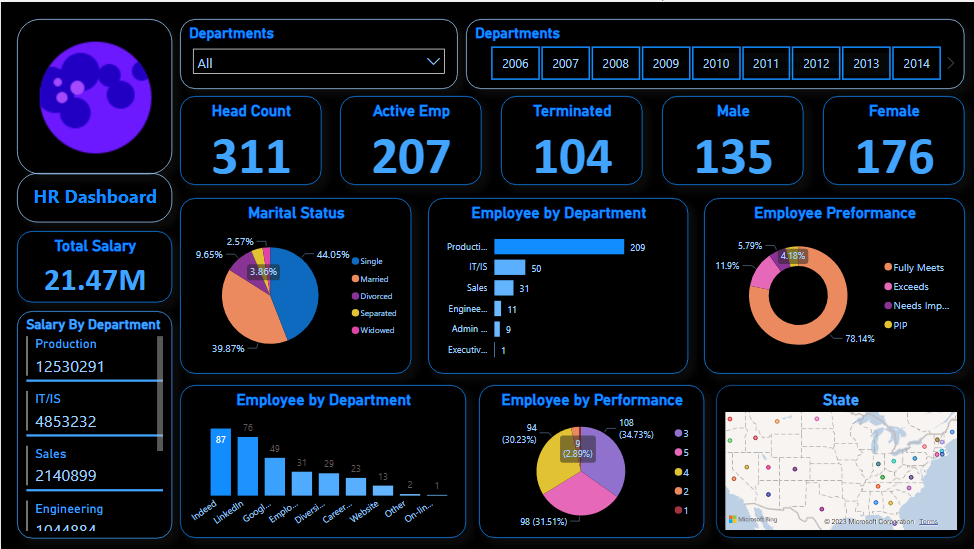

Layout of this report page (visuals, bound fields, positions):
{"tool":"powerbi","page":{"name":"Page 1","canvas":[1280,720],"ordinal":0},"visuals":[{"type":"image","box":[21,22.4,203.7,203.7],"z":1000},{"type":"textbox","box":[21.1,225.3,204.2,64.8],"z":2000},{"type":"slicer","title":"Departments","fields":{"Values":["HRData.Department"]},"box":[235.4,22,364.7,92.2],"z":3000},{"type":"slicer","title":"Departments","fields":{"Values":["HRData.HiringYear"]},"box":[611.1,22,655.1,92.2],"z":4000},{"type":"card","title":"Female","fields":{"Values":["HRData.Female_count"]},"box":[1080.4,123.9,185.8,117],"z":5000},{"type":"card","title":"Head Count","fields":{"Values":["Count(HRData.EmployeeID)"]},"box":[235.4,123.9,185.8,117],"z":6000},{"type":"card","title":"Active Emp","fields":{"Values":["HRData.Active_Emp"]},"box":[445.9,123.9,185.8,117],"z":7000},{"type":"card","title":"Terminated","fields":{"Values":["HRData.Terminated_Emp"]},"box":[656.5,123.9,185.8,117],"z":8000},{"type":"card","title":"Male","fields":{"Values":["HRData.Male_count"]},"box":[868.5,123.9,185.8,117],"z":9000},{"type":"pieChart","title":"Marital Status","fields":{"Category":["HRData.MaritalStatus"],"Y":["CountNonNull(HRData.MaritalStatus)"]},"box":[235.4,257.4,304.2,231.2],"z":10000},{"type":"barChart","title":"Employee by Department","fields":{"Category":["HRData.Department"],"Y":["CountNonNull(HRData.EmployeeID)"]},"box":[560.4,257.7,342.2,230.9],"z":11000},{"type":"donutChart","title":"Employee Preformance","fields":{"Category":["HRData.PerformanceScore"],"Y":["CountNonNull(HRData.Department)"]},"box":[923.5,257.4,342.7,231.2],"z":12000},{"type":"columnChart","title":"Employee by Department","fields":{"Category":["HRData.RecruitmentSource"],"Y":["CountNonNull(HRData.EmployeeID)"]},"box":[235.2,502.7,376,201.4],"z":13000},{"type":"pieChart","title":"Employee by Performance","fields":{"Category":["HRData.EmployeeSatisfaction"],"Y":["CountNonNull(HRData.EmployeeID)"]},"box":[628,502.7,295.7,201.4],"z":14000},{"type":"map","title":"State","fields":{"Series":["HRData.State"],"Category":["HRData.State"]},"box":[939.2,502.7,326.7,201.4],"z":15000},{"type":"card","title":"Total Salary","fields":{"Values":["Sum(HRData.Salary)"]},"box":[21.1,301.3,204.2,94.3],"z":16000},{"type":"multiRowCard","title":"Salary By Department","fields":{"Values":["Sum(HRData.Salary)","HRData.Department"]},"box":[21.1,405.5,204.2,298.5],"z":16001}]}

Visuals, with their boxes in screenshot pixels (x1, y1, x2, y2), scaled from the page's 1280x720 canvas onto the 974x549 screenshot:
image: (16,17,171,172)
textbox: (16,172,171,221)
"Departments" slicer: (179,17,457,87)
"Departments" slicer: (465,17,963,87)
"Female" card: (822,94,963,184)
"Head Count" card: (179,94,321,184)
"Active Emp" card: (339,94,481,184)
"Terminated" card: (500,94,641,184)
"Male" card: (661,94,802,184)
"Marital Status" pieChart: (179,196,411,373)
"Employee by Department" barChart: (426,196,687,373)
"Employee Preformance" donutChart: (703,196,963,373)
"Employee by Department" columnChart: (179,383,465,537)
"Employee by Performance" pieChart: (478,383,703,537)
"State" map: (715,383,963,537)
"Total Salary" card: (16,230,171,302)
"Salary By Department" multiRowCard: (16,309,171,537)
